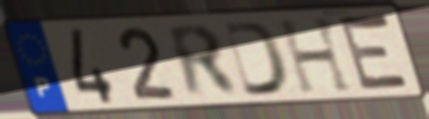2: (117, 24, 181, 103)
4: (68, 25, 118, 107)
D: (220, 19, 292, 98)
E: (335, 12, 415, 94)
H: (275, 14, 357, 96)
R: (162, 23, 244, 101)
